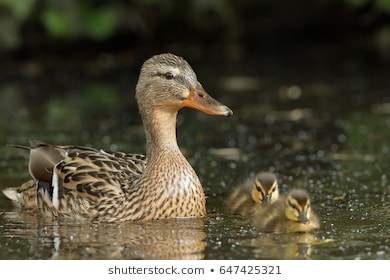duck: (2, 42, 255, 223), (237, 185, 329, 238), (220, 171, 277, 222)
